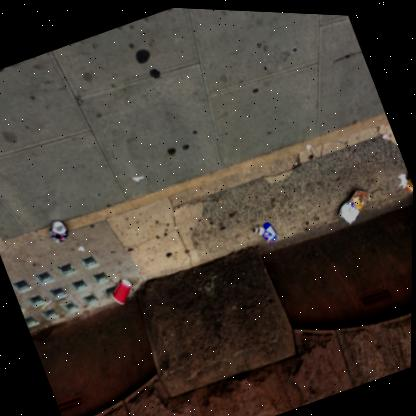Metal: (48, 219, 67, 241)
Paper: (112, 277, 131, 302)
Plastic: (338, 185, 366, 220)
Waste: (257, 218, 277, 240), (397, 169, 407, 184), (405, 171, 414, 187)
